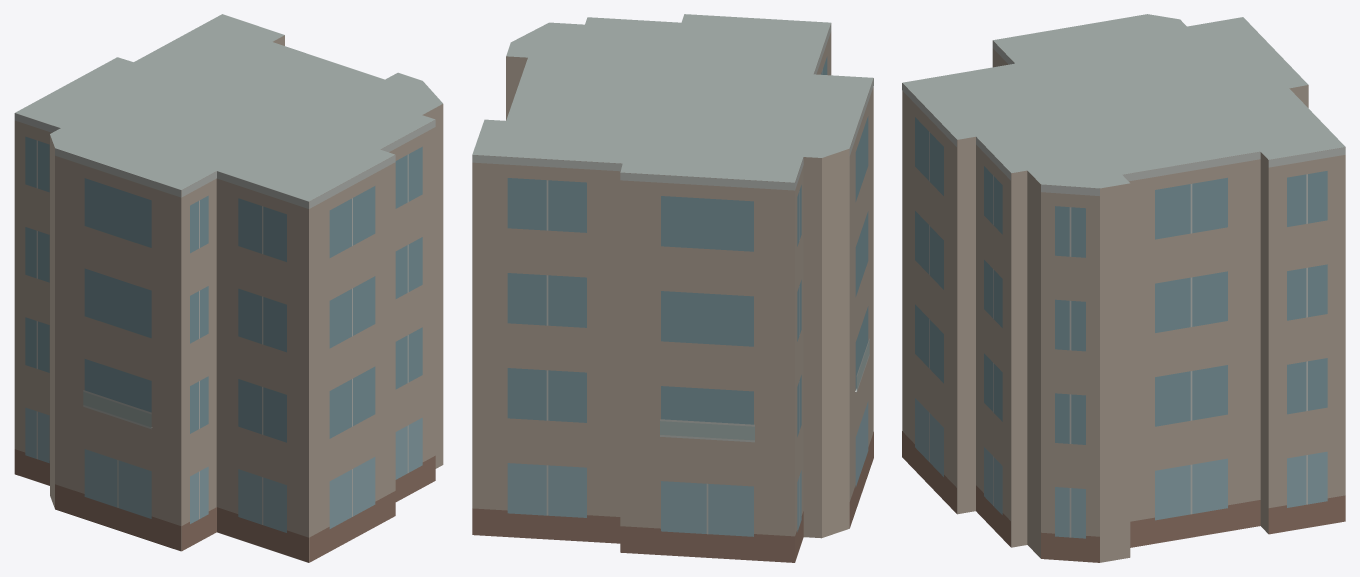
The model's file is survey-upis-32911499.glb.
The picture shows the model from 3 angles, left to right: view 1: azimuth 30°, elevation 25°; view 2: azimuth 150°, elevation 25°; view 3: azimuth 270°, elevation 25°; orthographic projection. The views are drawn at different scales.
Parts seen in each view (by area): view 1: survey-upis-32911499.tmp; view 2: survey-upis-32911499.tmp; view 3: survey-upis-32911499.tmp.
Part boxes in pixels (x1,y1,x2,y2): survey-upis-32911499.tmp: (14,14,443,562); survey-upis-32911499.tmp: (472,14,873,562); survey-upis-32911499.tmp: (902,14,1345,562).
Bounding box in the file's own units: 11.8 × 11.8 × 12.68.
